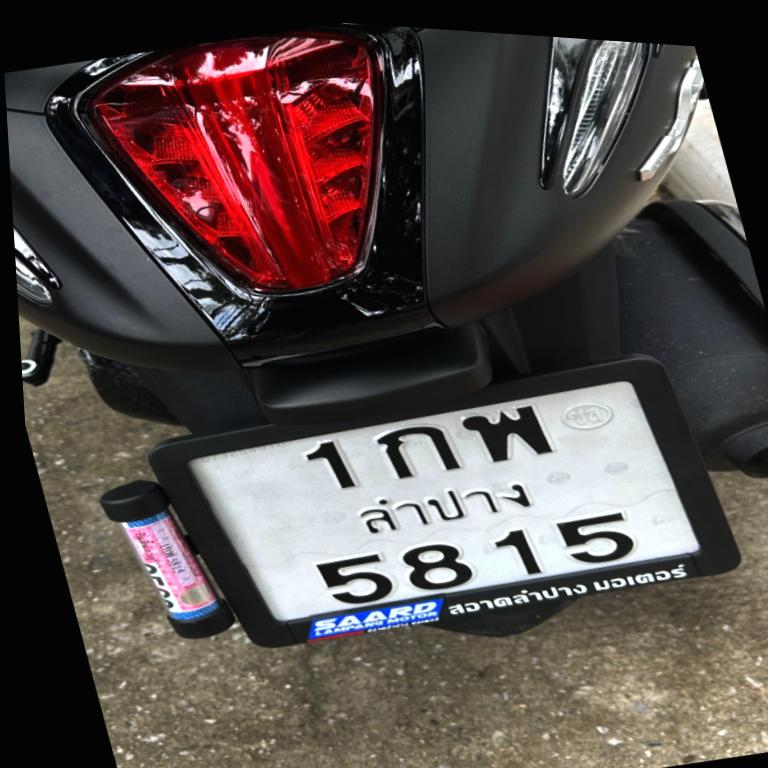license plate: (131, 312, 752, 701)
